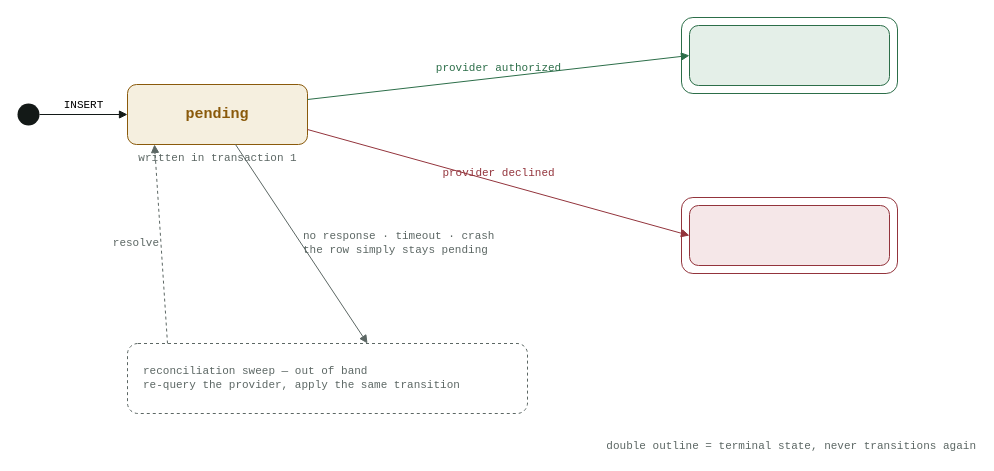
This 994x471 diagram has some shape labels left out. Each missing label, with the box of its shape:
failed: (688, 204, 890, 266)
succeeded: (688, 24, 890, 86)
